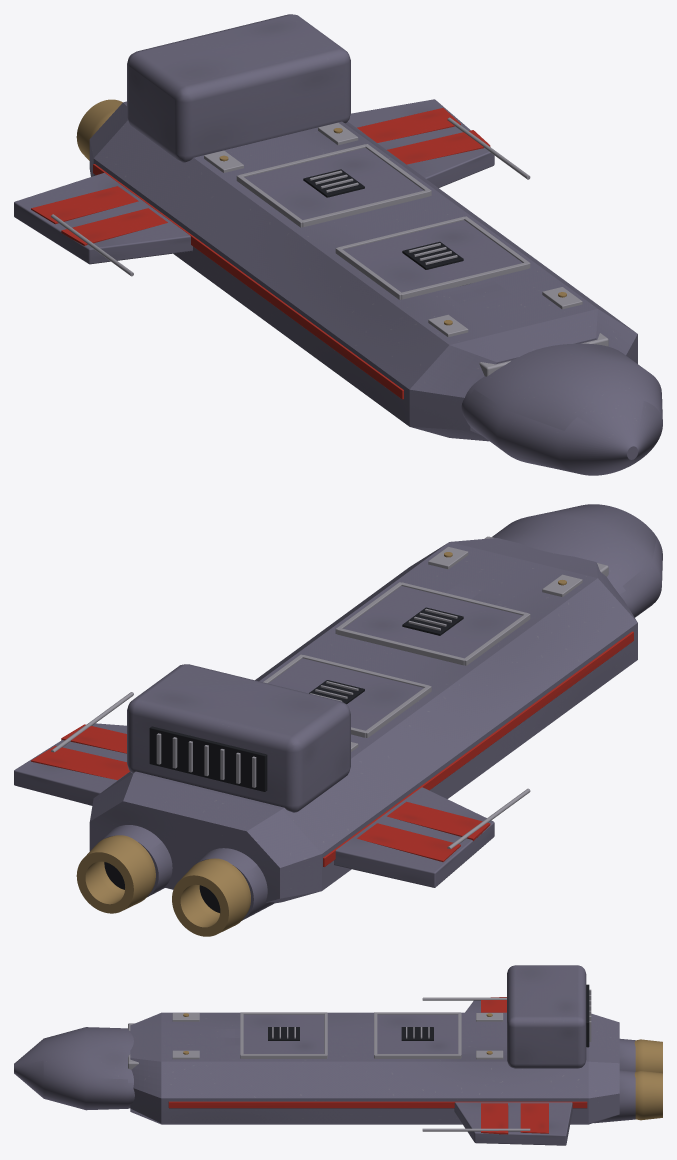
3 renders of one model, top to bottom at view 1: azimuth 30°, elevation 25°; view 2: azimuth 150°, elevation 25°; view 3: azimuth 270°, elevation 25°, orthographic. The views are drawn at different scales.
Visible parts, largest first — view 1: Command Cruiser continuous faceted hull, Command Cruiser raised aft block, Command Cruiser rounded bow, Command Cruiser outrigger wing -1, Command Cruiser dorsal panel 0, Command Cruiser dorsal panel 1, Command Cruiser outrigger wing 1, Command Cruiser red flank -1, Command Cruiser red outrigger band -1 1, Command Cruiser red outrigger band 1 1, Command Cruiser red outrigger band -1 0, Command Cruiser red outrigger band 1 0 (+5 smaller); view 2: Command Cruiser continuous faceted hull, Command Cruiser raised aft block, Command Cruiser rounded bow, Command Cruiser dorsal panel 0, Command Cruiser outrigger wing -1, Command Cruiser exhaust 1, Command Cruiser exhaust -1, Command Cruiser dorsal panel 1, Command Cruiser aft dark grille, Command Cruiser outrigger wing 1, Command Cruiser red flank -1, Command Cruiser red outrigger band -1 1 (+9 smaller); view 3: Command Cruiser continuous faceted hull, Command Cruiser raised aft block, Command Cruiser rounded bow, Command Cruiser outrigger wing 1, Command Cruiser dorsal panel 1, Command Cruiser dorsal panel 0, Command Cruiser red flank 1, Command Cruiser exhaust 1, Command Cruiser engine housing 1, Command Cruiser exhaust -1, Command Cruiser red outrigger band 1 1, Command Cruiser red outrigger band 1 0 (+8 smaller).
Part boxes in pixels (x1,y1,x2,y2): Command Cruiser continuous faceted hull: [89, 101, 637, 441]; Command Cruiser raised aft block: [127, 14, 350, 162]; Command Cruiser rounded bow: [461, 343, 662, 475]; Command Cruiser outrigger wing -1: [14, 172, 192, 264]; Command Cruiser dorsal panel 0: [343, 220, 522, 292]; Command Cruiser dorsal panel 1: [244, 148, 423, 219]; Command Cruiser outrigger wing 1: [348, 99, 494, 187]; Command Cruiser red flank -1: [93, 164, 403, 399]; Command Cruiser red outrigger band -1 1: [31, 186, 138, 224]; Command Cruiser red outrigger band 1 1: [357, 108, 460, 142]; Command Cruiser red outrigger band -1 0: [61, 208, 167, 245]; Command Cruiser red outrigger band 1 0: [387, 130, 490, 164]; Command Cruiser continuous faceted hull: [89, 538, 637, 903]; Command Cruiser raised aft block: [127, 664, 350, 812]; Command Cruiser rounded bow: [492, 504, 662, 617]; Command Cruiser dorsal panel 0: [343, 586, 522, 658]; Command Cruiser outrigger wing -1: [334, 787, 494, 887]; Command Cruiser exhaust 1: [76, 835, 155, 913]; Command Cruiser exhaust -1: [172, 858, 250, 936]; Command Cruiser dorsal panel 1: [268, 658, 423, 730]; Command Cruiser aft dark grille: [149, 726, 267, 791]; Command Cruiser outrigger wing 1: [14, 723, 126, 805]; Command Cruiser red flank -1: [323, 631, 633, 866]; Command Cruiser red outrigger band -1 1: [357, 823, 460, 861]; Command Cruiser continuous faceted hull: [130, 1012, 619, 1124]; Command Cruiser raised aft block: [507, 965, 586, 1068]; Command Cruiser rounded bow: [14, 1027, 134, 1110]; Command Cruiser outrigger wing 1: [454, 1102, 572, 1145]; Command Cruiser dorsal panel 1: [377, 1014, 458, 1053]; Command Cruiser dorsal panel 0: [243, 1014, 324, 1053]; Command Cruiser red flank 1: [168, 1101, 587, 1108]; Command Cruiser exhaust 1: [634, 1071, 662, 1120]; Command Cruiser engine housing 1: [594, 1070, 635, 1123]; Command Cruiser exhaust -1: [634, 1039, 662, 1073]; Command Cruiser red outrigger band 1 1: [520, 1103, 548, 1133]; Command Cruiser red outrigger band 1 0: [481, 1103, 508, 1134].
Size of the model in its own units: 2.66 by 1.01 by 5.24.
Materials: 5 (2 with a texture image).
